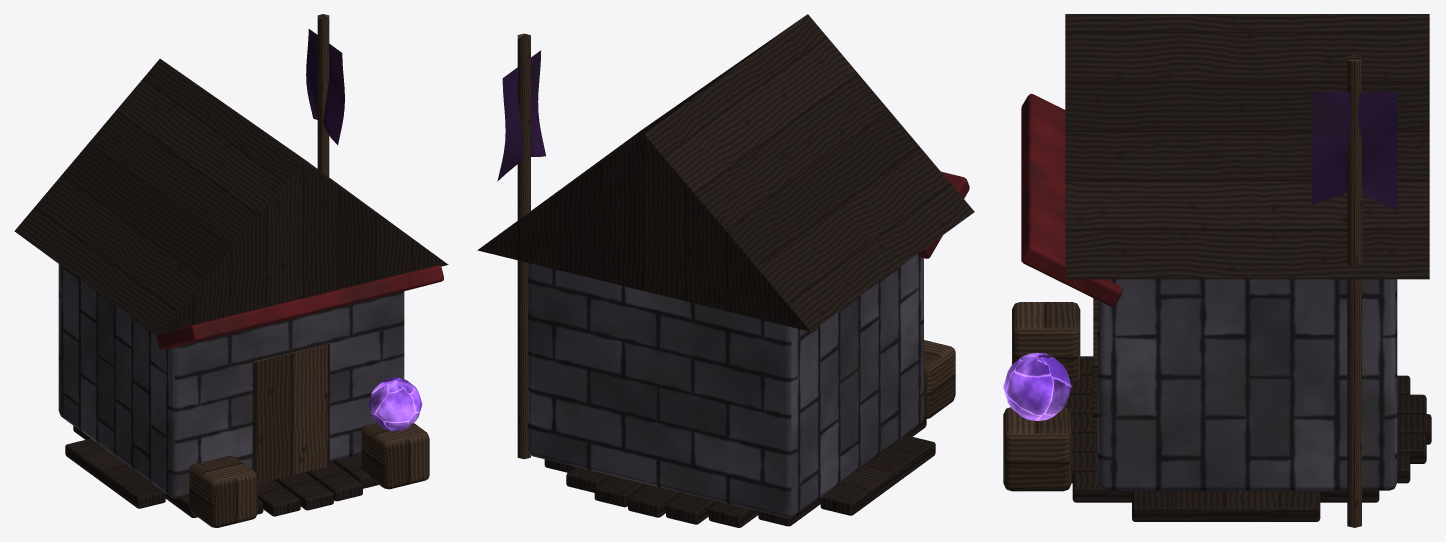
File: shop.glb
3 views of the same model, side by side, from view 1: azimuth 30°, elevation 25°; view 2: azimuth 150°, elevation 25°; view 3: azimuth 270°, elevation 25° (orthographic). The views are drawn at different scales.
Parts seen in each view (by area): view 1: Base, Sign; view 2: Base, Sign; view 3: Base, Sign.
Boxes of the visible parts, x1,y1,x2,y2 form: Base: (14, 14, 448, 527); Sign: (306, 29, 344, 145); Base: (477, 14, 974, 527); Sign: (497, 50, 545, 181); Base: (1003, 14, 1431, 527); Sign: (1311, 92, 1397, 210).
Bounding box in the file's own units: 1 × 1.2 × 1.
8 materials, 8 textured.
